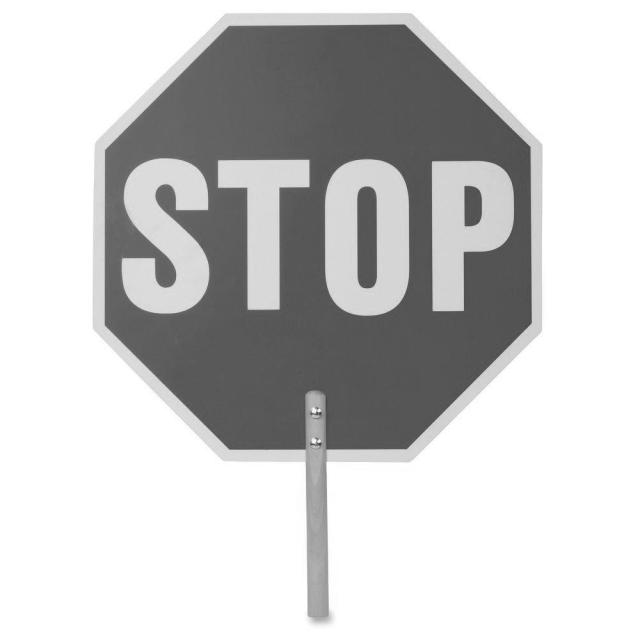Stop-sign: (69, 0, 564, 472)
